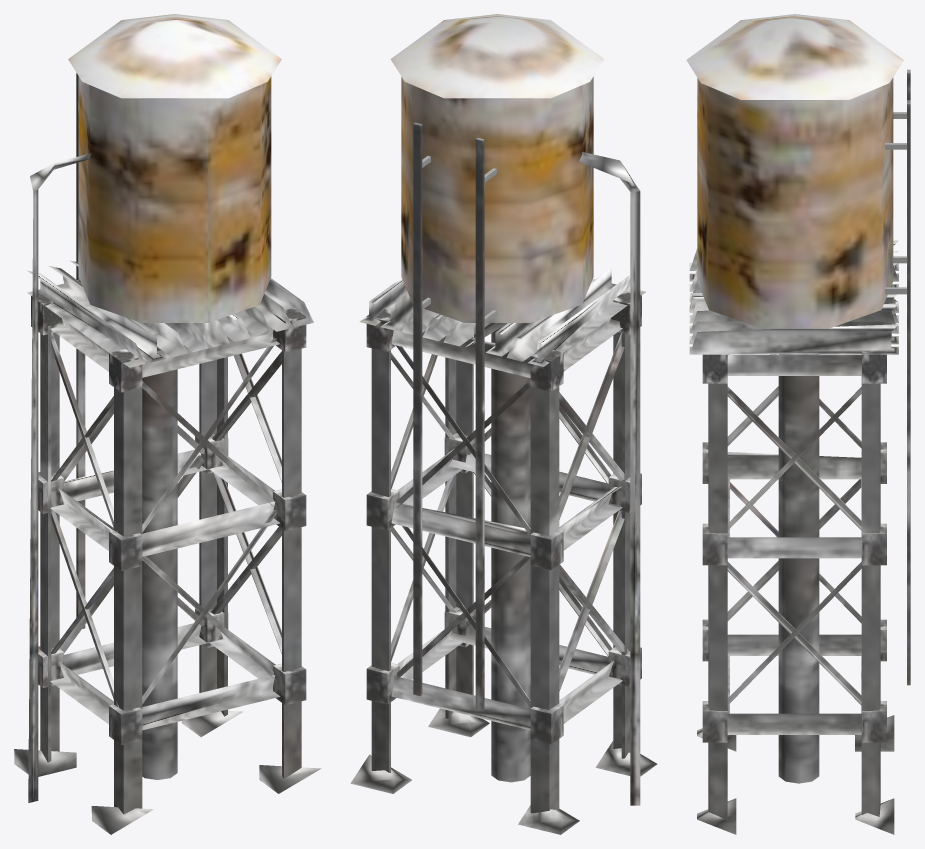
File: tank.glb
The picture shows the model from 3 angles, left to right: view 1: azimuth 30°, elevation 25°; view 2: azimuth 150°, elevation 25°; view 3: azimuth 270°, elevation 25°; orthographic projection.
Parts seen in each view (by area): view 1: defaultMaterial; view 2: defaultMaterial; view 3: defaultMaterial.
Part boxes in pixels (<box>): defaultMaterial: <box>14,14,321,834</box>; defaultMaterial: <box>350,14,657,834</box>; defaultMaterial: <box>686,14,910,834</box>.
Size of the model in its own units: 0.577 by 1.7 by 0.4524.
1 material, 1 textured.
